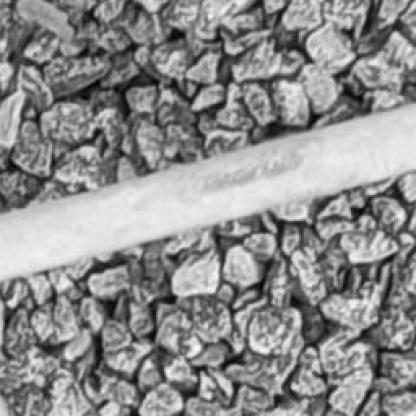PVC: (2, 102, 414, 283)
